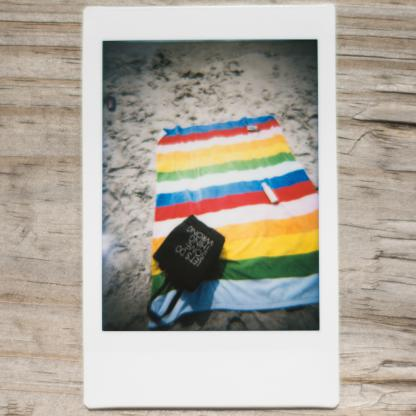Picture-frame: (84, 5, 340, 409)
